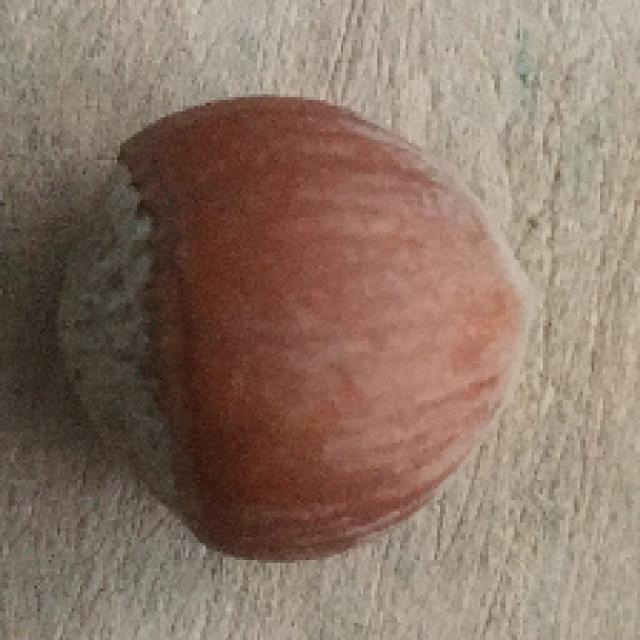qualityHazelnut: (38, 80, 548, 574)
